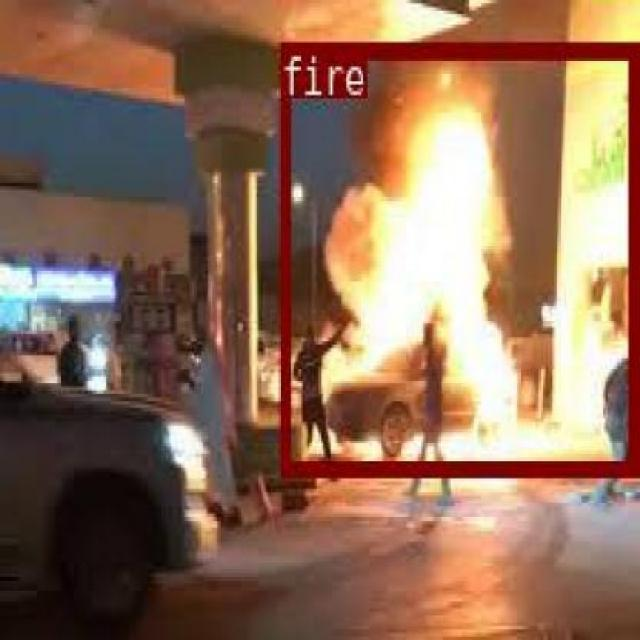Fire: (357, 256, 458, 433)
